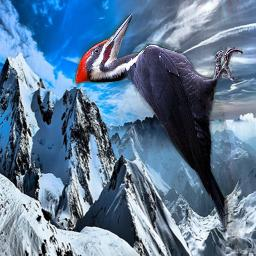Woodpecker: (75, 14, 243, 251)
